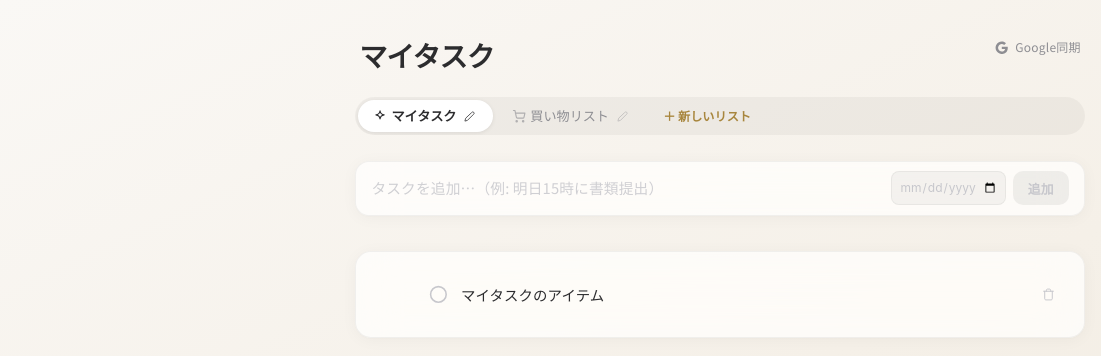
Scenario: Tasks コンポーネント › 動的タブで「買い物リスト」に切り替えると、買い物リストのタスクのみが表示される
Check: the text "マイタスクのアイテム" is shown, box top-left (461, 284), bottom-right (604, 304)
Check: the text "牛乳・たまご" is not shown
# 買い物リストタブをクリック
Click the button with test id "tab-shopping".
click(561, 116)  # box top-left (512, 106), bottom-right (609, 126)
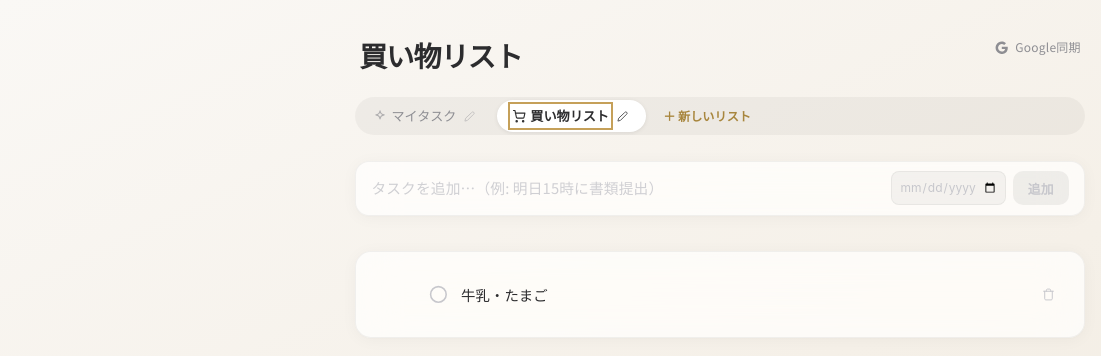
Check: the text "牛乳・たまご" is shown, box top-left (461, 284), bottom-right (548, 304)
Check: the text "マイタスクのアイテム" is gone
